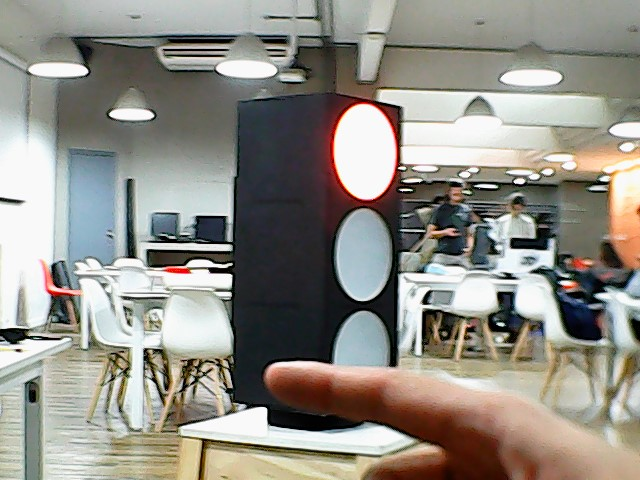vermelho: (231, 90, 406, 424)
